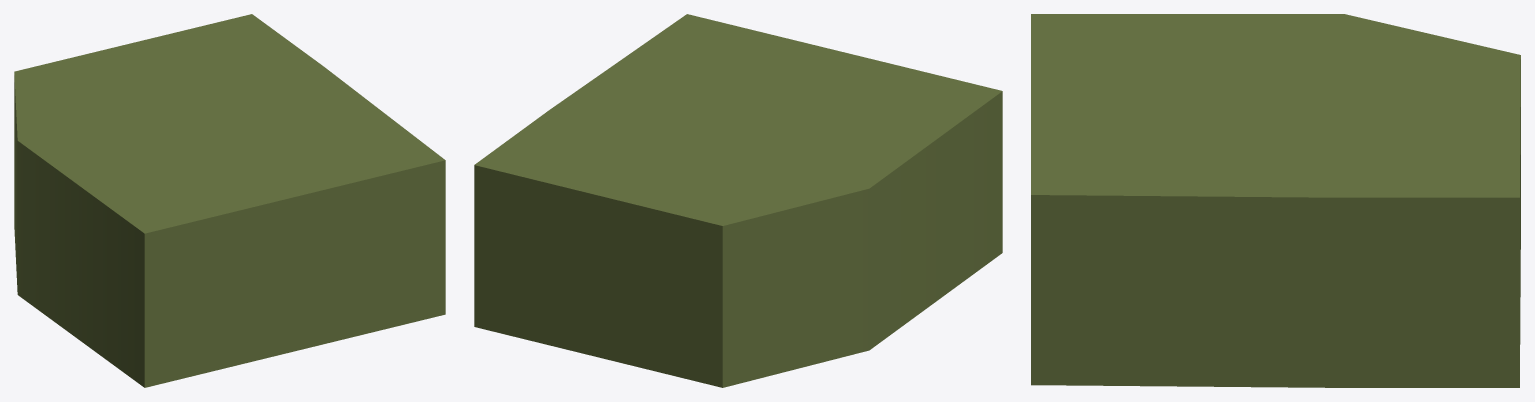
The model's file is ground_16.fbx.
3 renders of one model, left to right at view 1: azimuth 30°, elevation 25°; view 2: azimuth 150°, elevation 25°; view 3: azimuth 270°, elevation 25°, orthographic. The views are drawn at different scales.
Parts seen in each view (by area): view 1: ground_16; view 2: ground_16; view 3: ground_16.
Part boxes in pixels (left/top/right/bottom): ground_16: left=14, top=14, right=445, bottom=387; ground_16: left=474, top=14, right=1002, bottom=387; ground_16: left=1031, top=14, right=1520, bottom=387.
Bounding box in the file's own units: 4.36 × 2.1 × 4.91.
